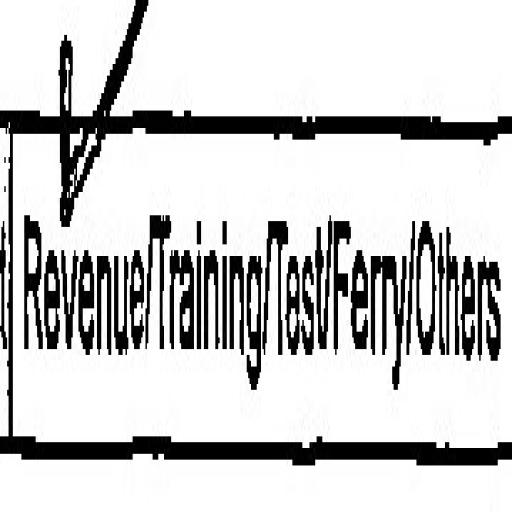check: (12, 4, 148, 512)
